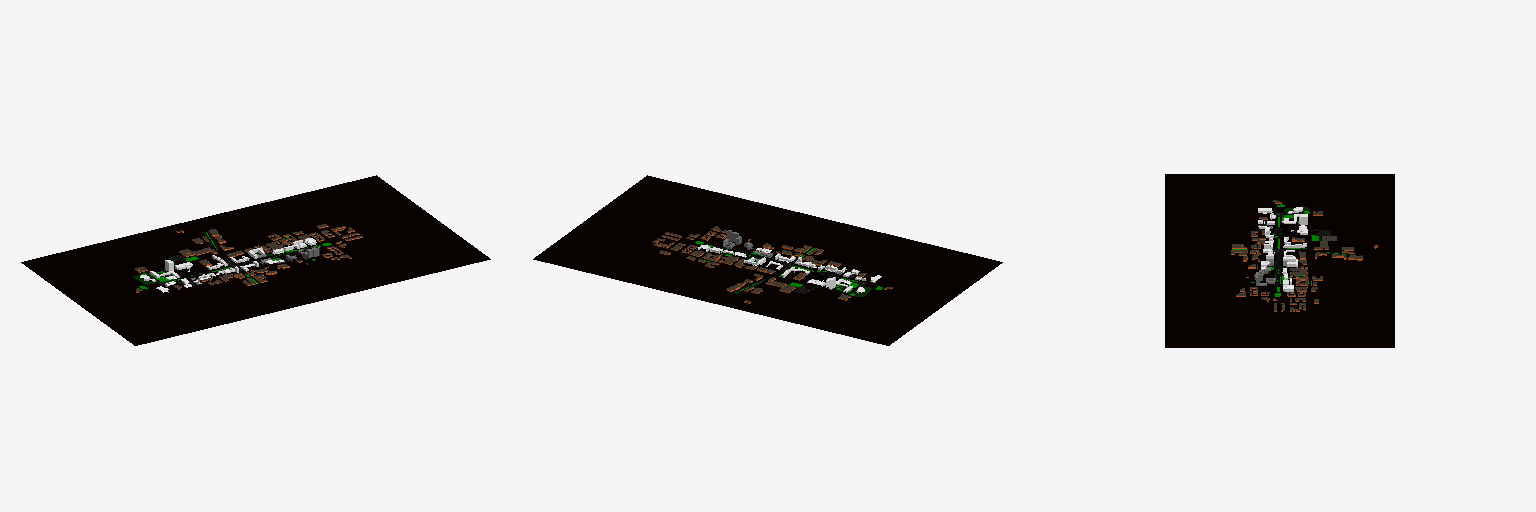
Rendered from full_3.obj.
The picture shows the model from 3 angles: view 1: azimuth 30°, elevation 25°; view 2: azimuth 150°, elevation 25°; view 3: azimuth 270°, elevation 25°; orthographic projection.
Parts seen in each view (by area): view 1: Plane; view 2: Plane; view 3: Plane.
Part boxes in pixels (x1,y1,x2,y2): Plane: (21,175,490,345); Plane: (533,175,1002,345); Plane: (1165,174,1394,347).
Bounding box in the file's own units: 2 × 0.063 × 1.12.